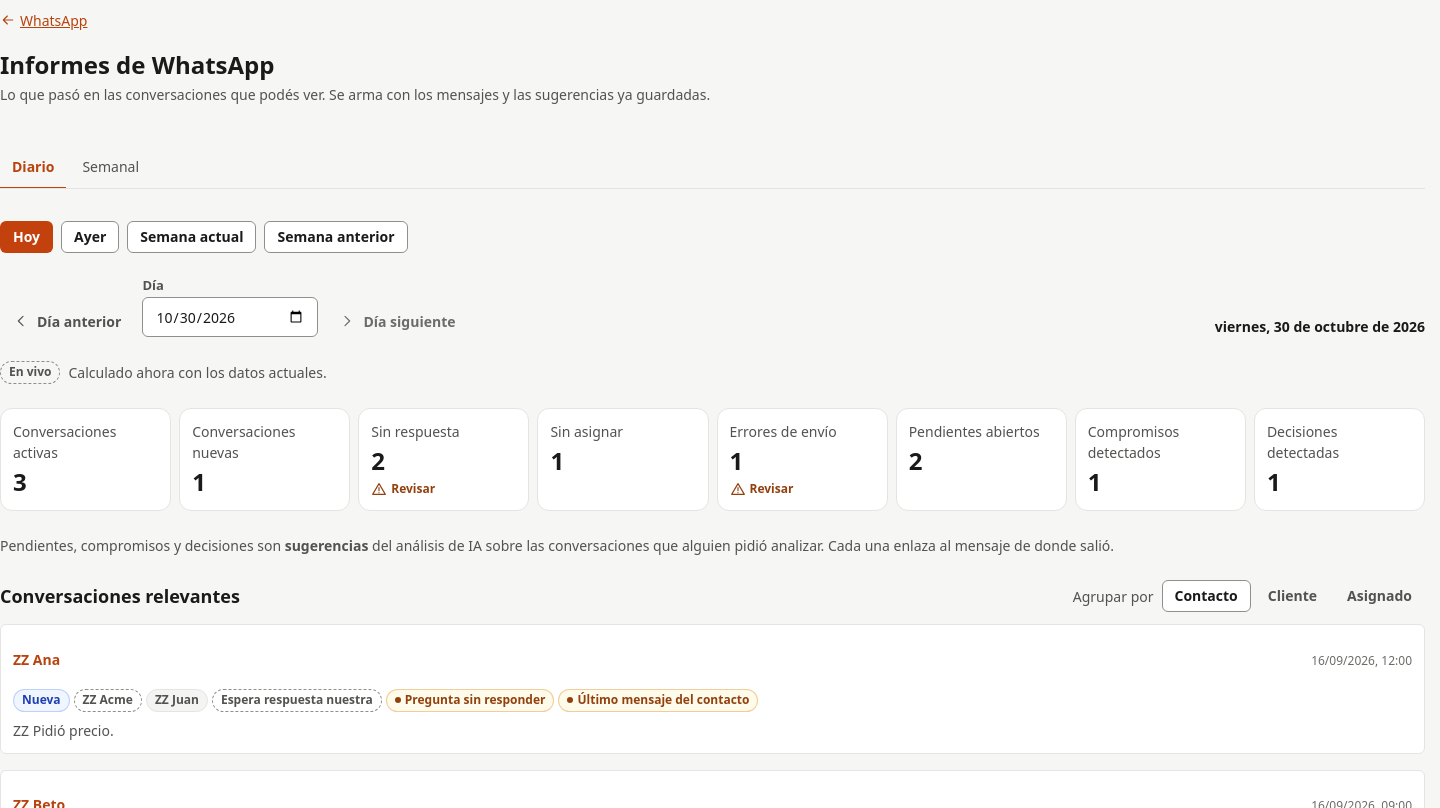
Informe de WhatsApp › el semanal pide siete días y muestra temas y conteo por asignado, sin puntajes
What coordinates should you click on to do the following:
click the tab "Semanal"
I would click on:
 (111, 167)
Its box is [70,145,151,189].
(page scrolled)
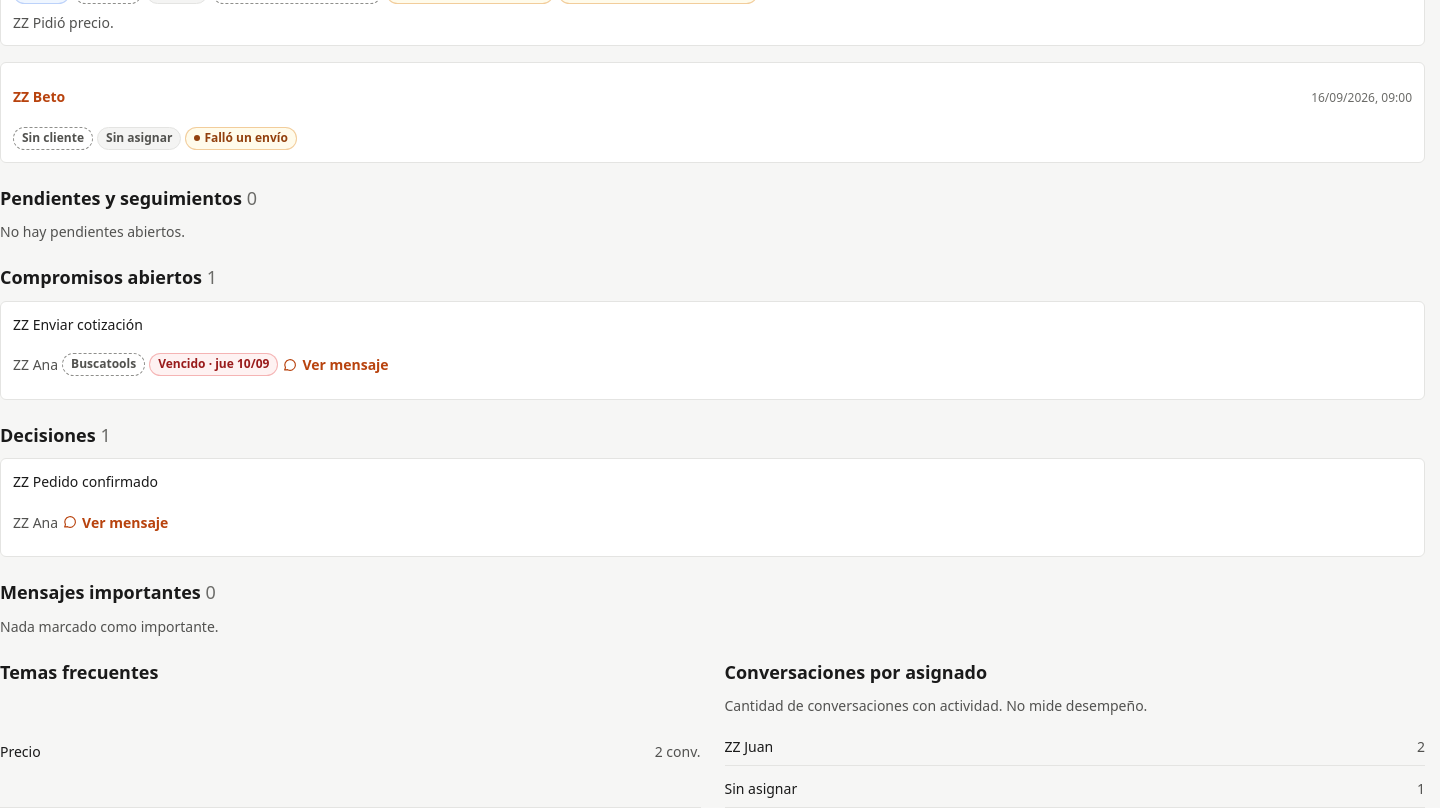
Check: the text "Sin asignar" below "Conversaciones por asignado" is shown, box [724,779,797,798]
Check: the heading "Temas frecuentes" is shown, box [0,660,158,684]
Check: the text "Cantidad de conversaciones con actividad. No mide desempeño." is shown, box [724,696,1147,715]
